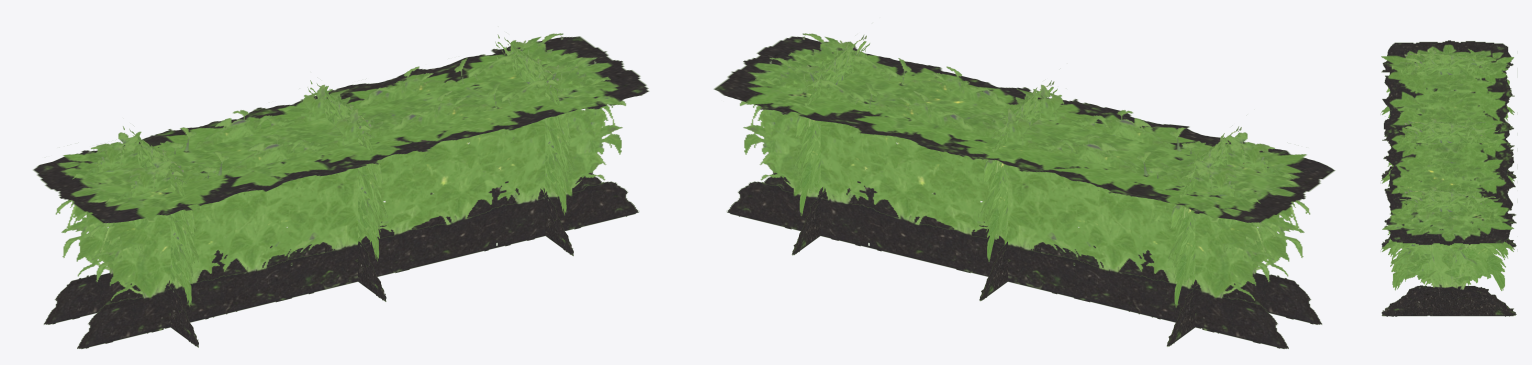
Rendered from greens-row-far.glb.
3 renders of one model, left to right at view 1: azimuth 30°, elevation 25°; view 2: azimuth 150°, elevation 25°; view 3: azimuth 270°, elevation 25°, orthographic. The views are drawn at different scales.
Parts seen in each view (by area): view 1: cards; view 2: cards; view 3: cards.
Part boxes in pixels (x1,y1,x2,y2): cards: [33, 33, 649, 348]; cards: [714, 33, 1335, 348]; cards: [1381, 40, 1516, 316].
Bounding box in the file's own units: 1.51 × 0.45 × 0.4275.
1 material, 1 textured.
